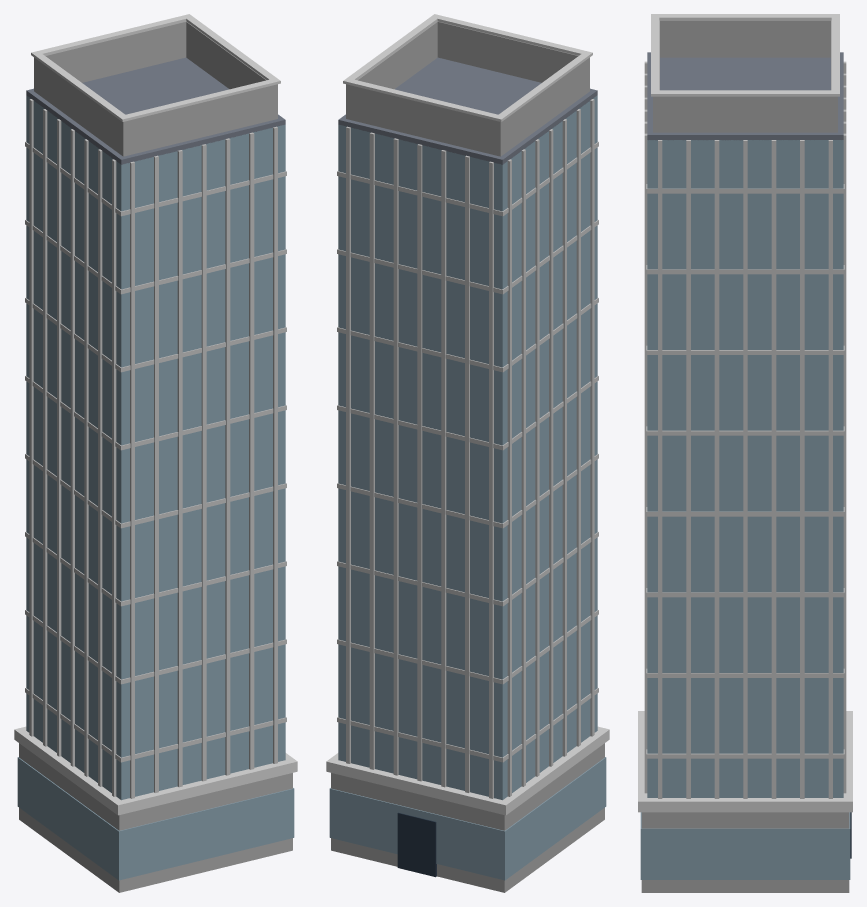
Rendered from building_large_slab.glb.
The picture shows the model from 3 angles, left to right: view 1: azimuth 30°, elevation 25°; view 2: azimuth 150°, elevation 25°; view 3: azimuth 270°, elevation 25°; orthographic projection. The views are drawn at different scales.
Parts seen in each view (by area): view 1: building_large_slab; view 2: building_large_slab; view 3: building_large_slab.
Boxes of the visible parts, <box> form: building_large_slab: <box>14,14,297,892</box>; building_large_slab: <box>326,14,609,892</box>; building_large_slab: <box>638,14,852,892</box>.
Size of the model in its own units: 15.3 by 62.49 by 15.3.
